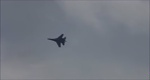maybay_muctieu: (49, 34, 68, 47)
